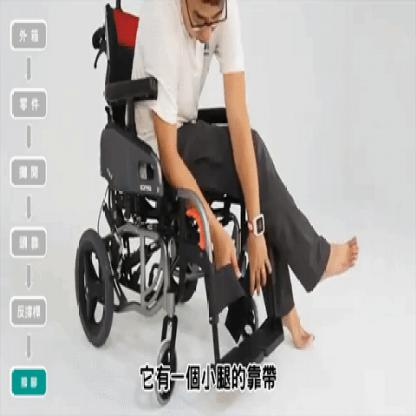wheelchair: (66, 0, 360, 401)
